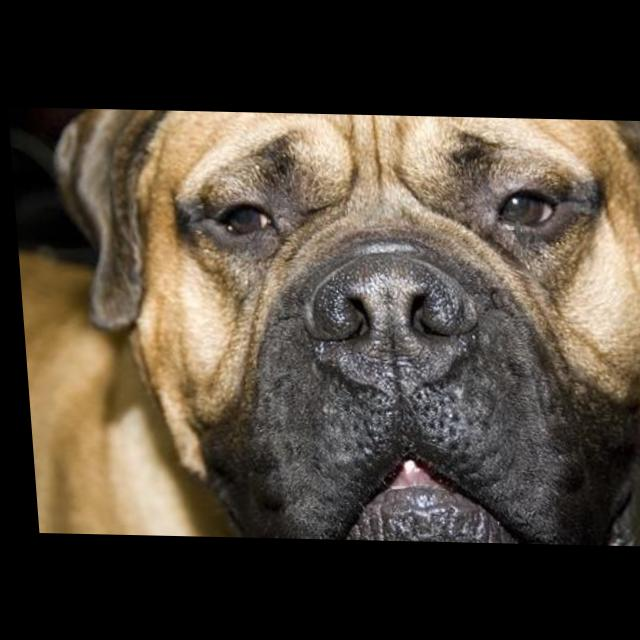bullmastiff: (7, 108, 640, 545)
